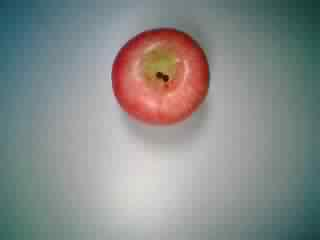apple: (108, 27, 214, 126)
